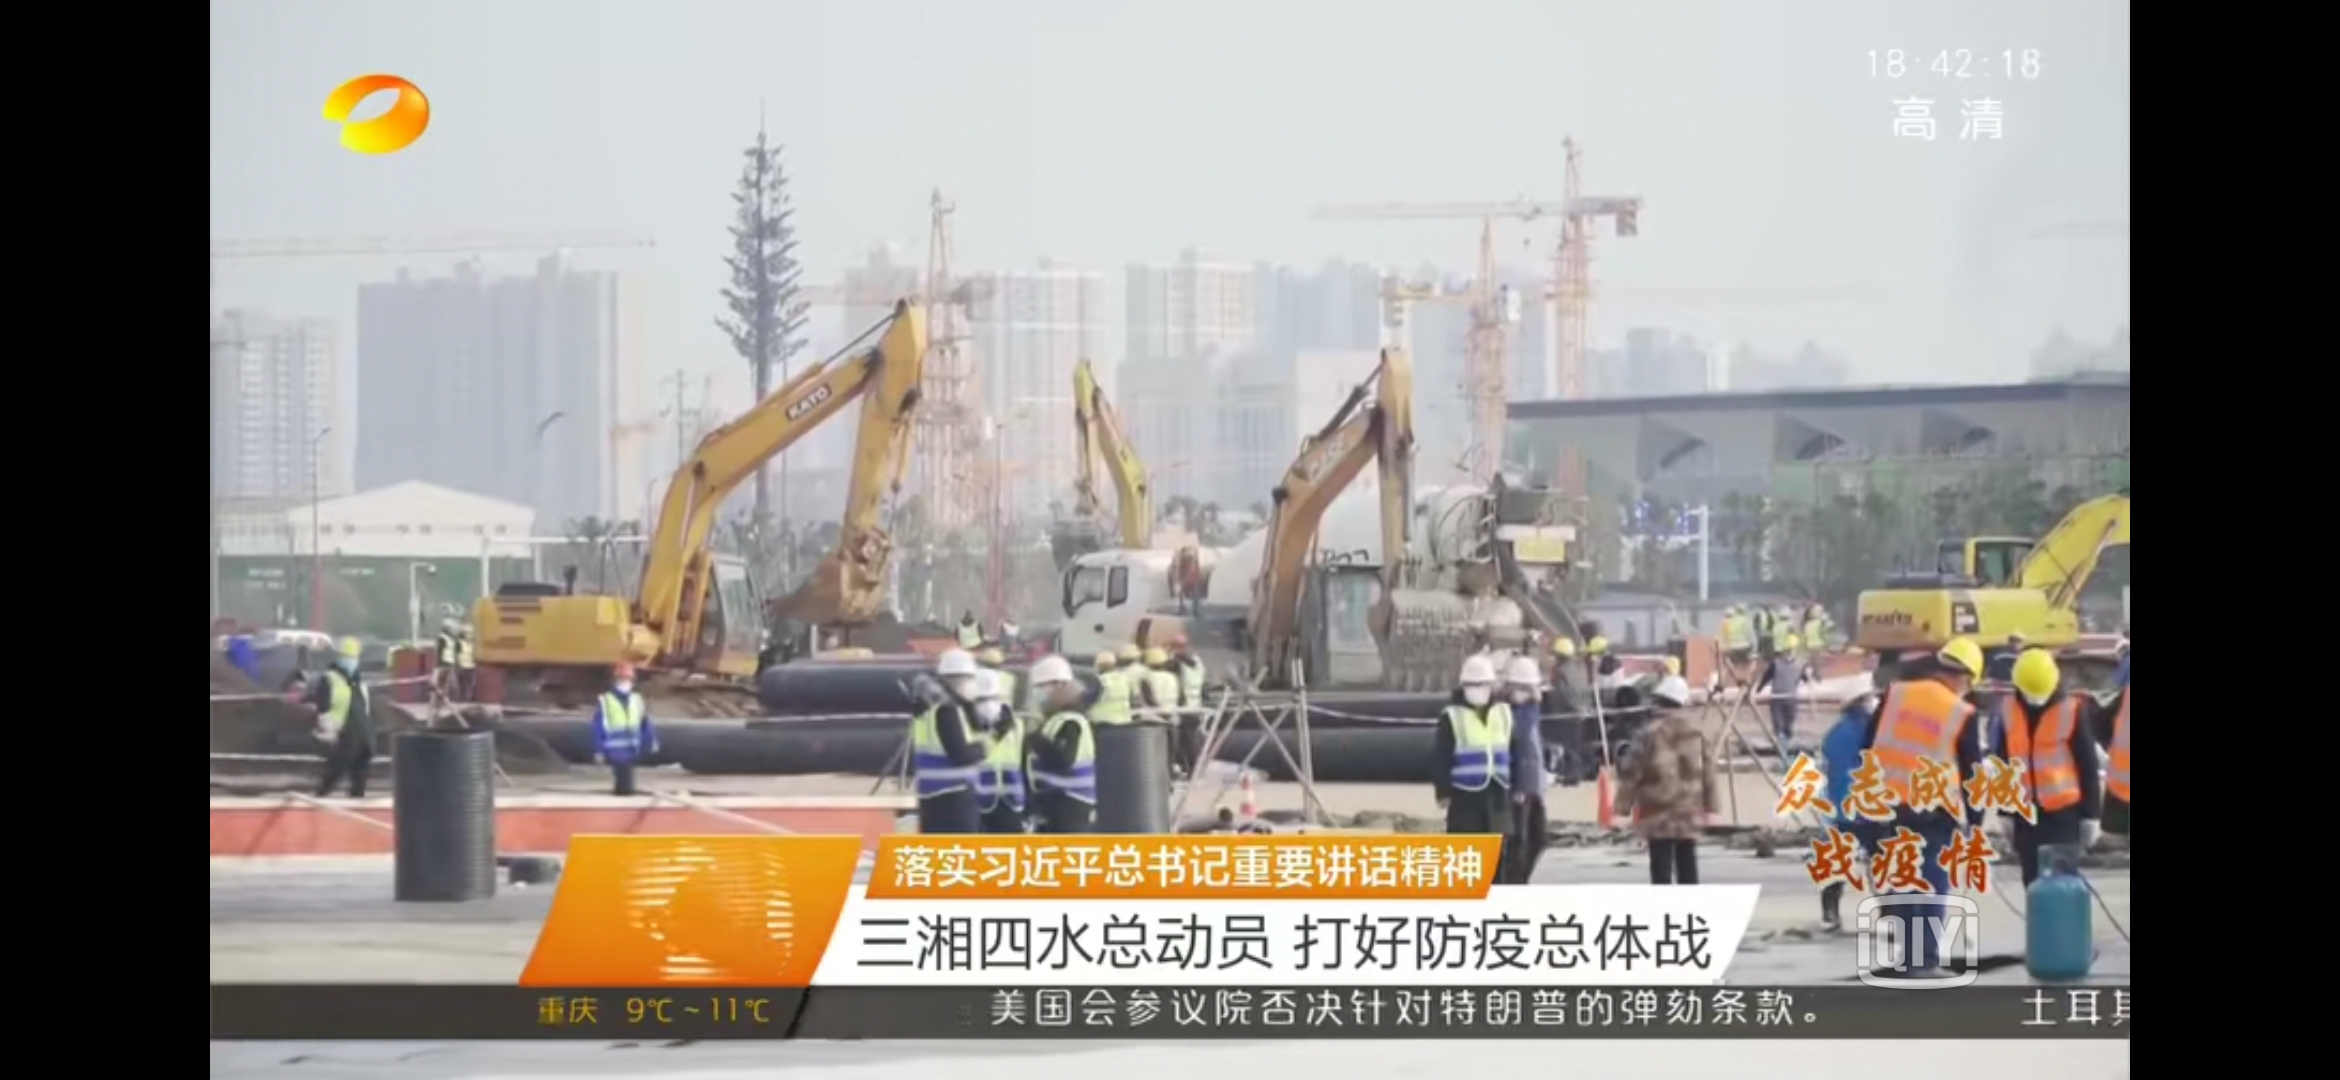correctlyWear: (940, 659, 988, 703), (975, 682, 1010, 732), (1458, 668, 1497, 709), (1507, 668, 1540, 706), (1031, 674, 1063, 706), (612, 670, 640, 694), (337, 643, 358, 674)
